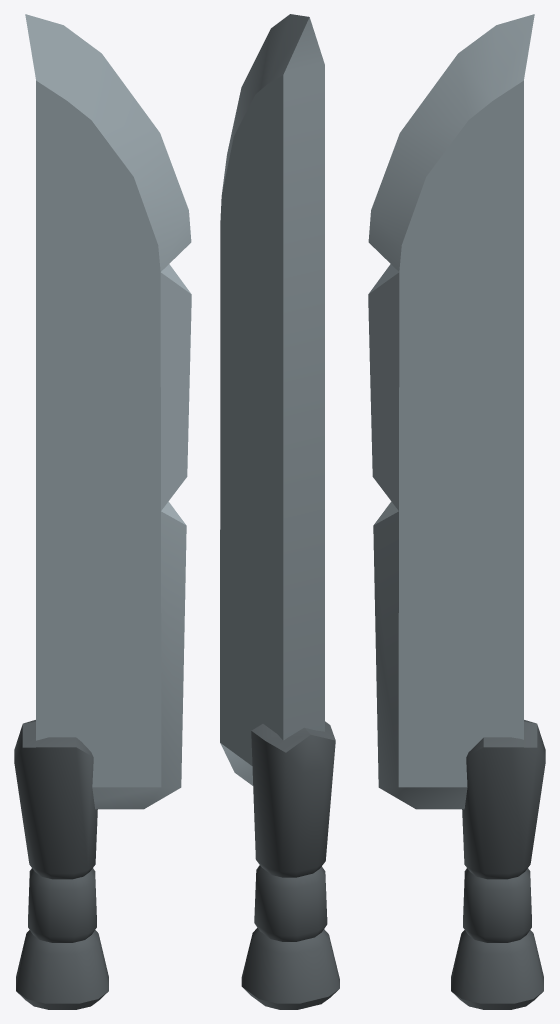
File: machete.fbx
The picture shows the model from 3 angles, left to right: view 1: azimuth 90°, elevation 25°; view 2: azimuth 210°, elevation 25°; view 3: azimuth 270°, elevation 25°; orthographic projection.
Visible parts, largest first — view 1: machete; view 2: machete; view 3: machete.
Part boxes in pixels (<box>): machete: <box>14,14,191,1009</box>; machete: <box>220,14,339,1009</box>; machete: <box>368,14,545,1009</box>.
Bounding box in the file's own units: 0.1241 × 1.45 × 0.238.
